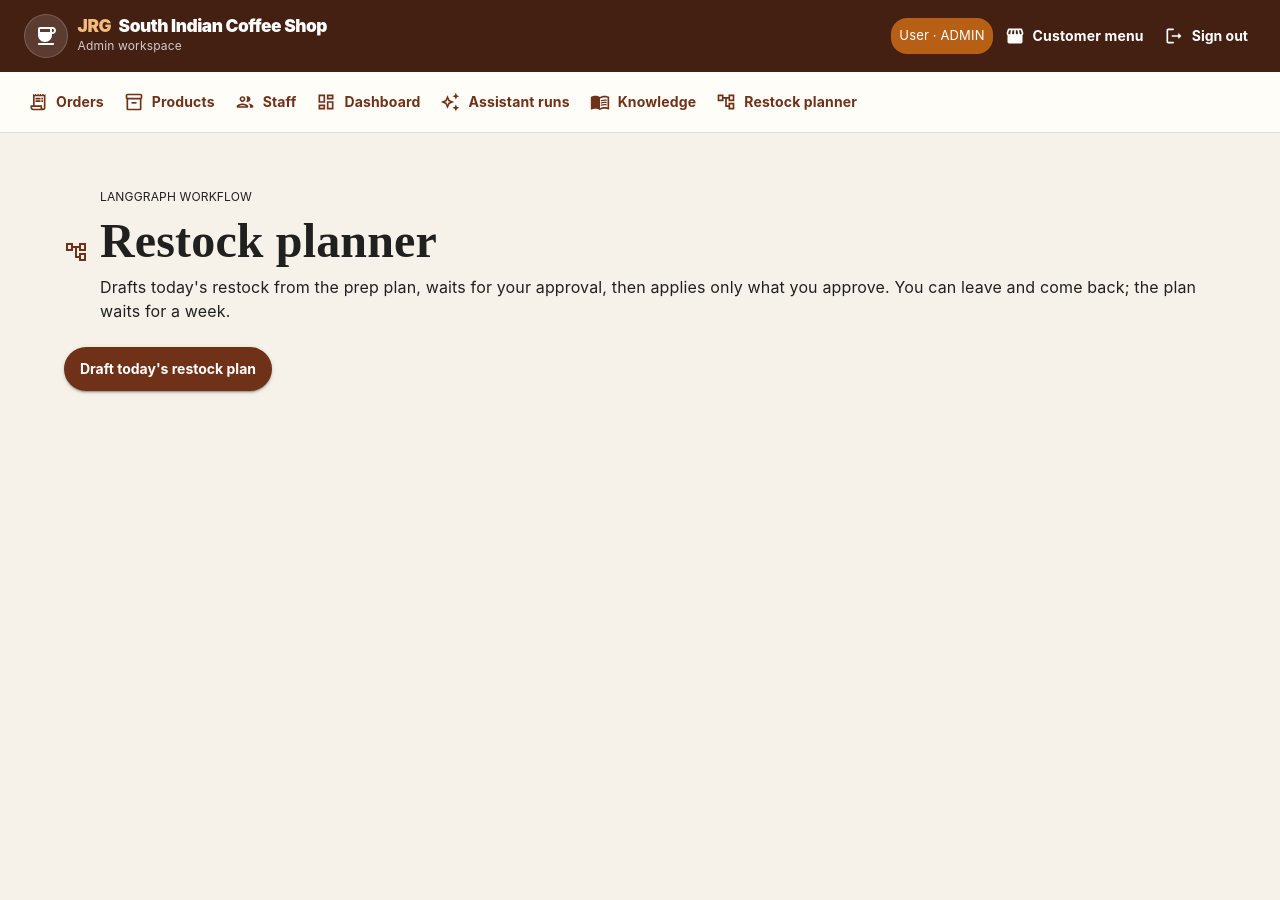
Scenario: admin restock planner › drafts a plan, lets the admin edit it, and applies the approved items
Click the button "Draft today's restock plan": (168, 369) [64,347,272,391]
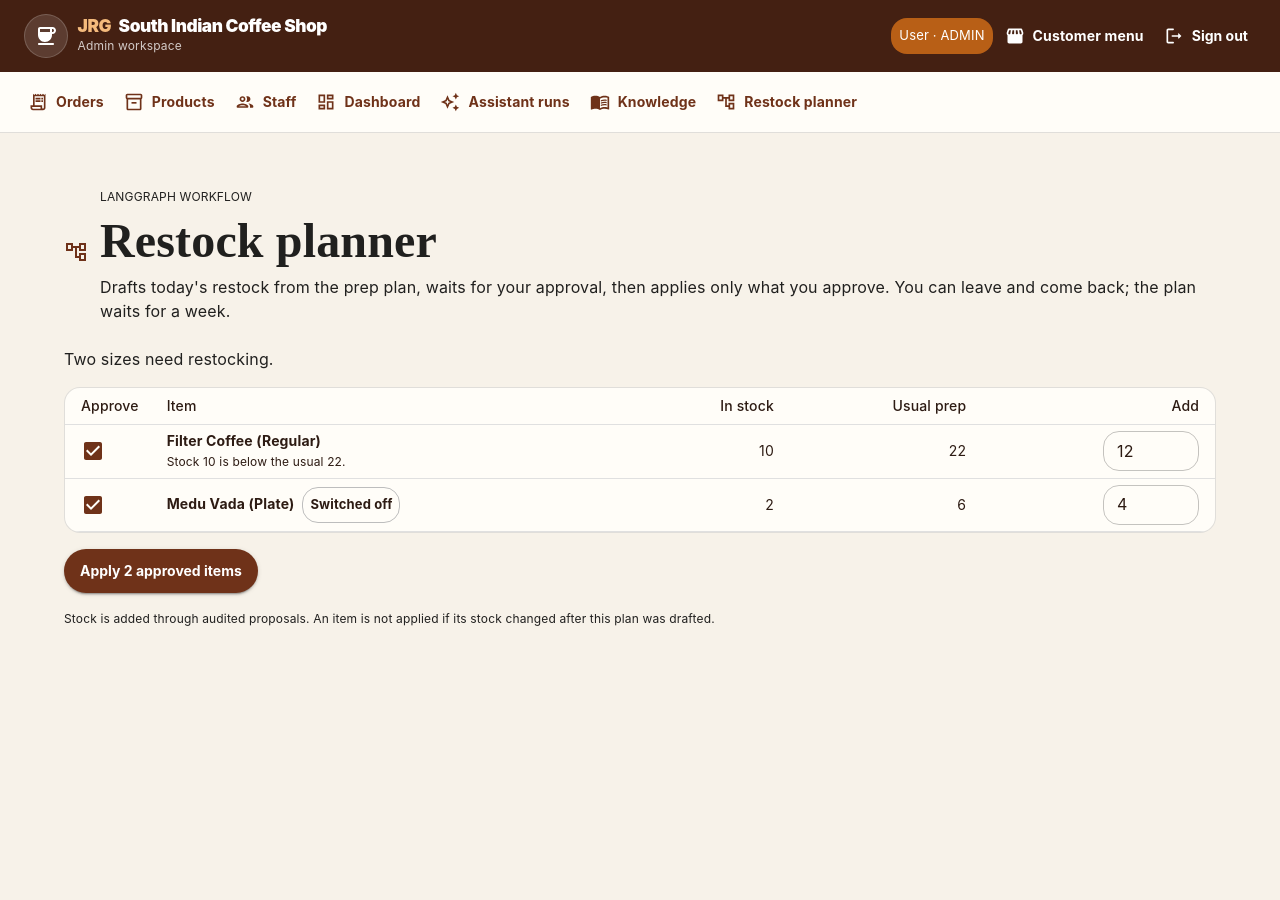
Now the text "Two sizes need restocking." is shown, box [64,349,274,369]
Now the text "Stock 10 is below the usual 22." is shown, box [167,454,346,469]
Now the text "Switched off" is shown, box [303,495,400,515]
Replace the text in the number field named "Units to add for Filter Coffee (Regular)" with "15": (1151, 451) [1103,431,1199,471]
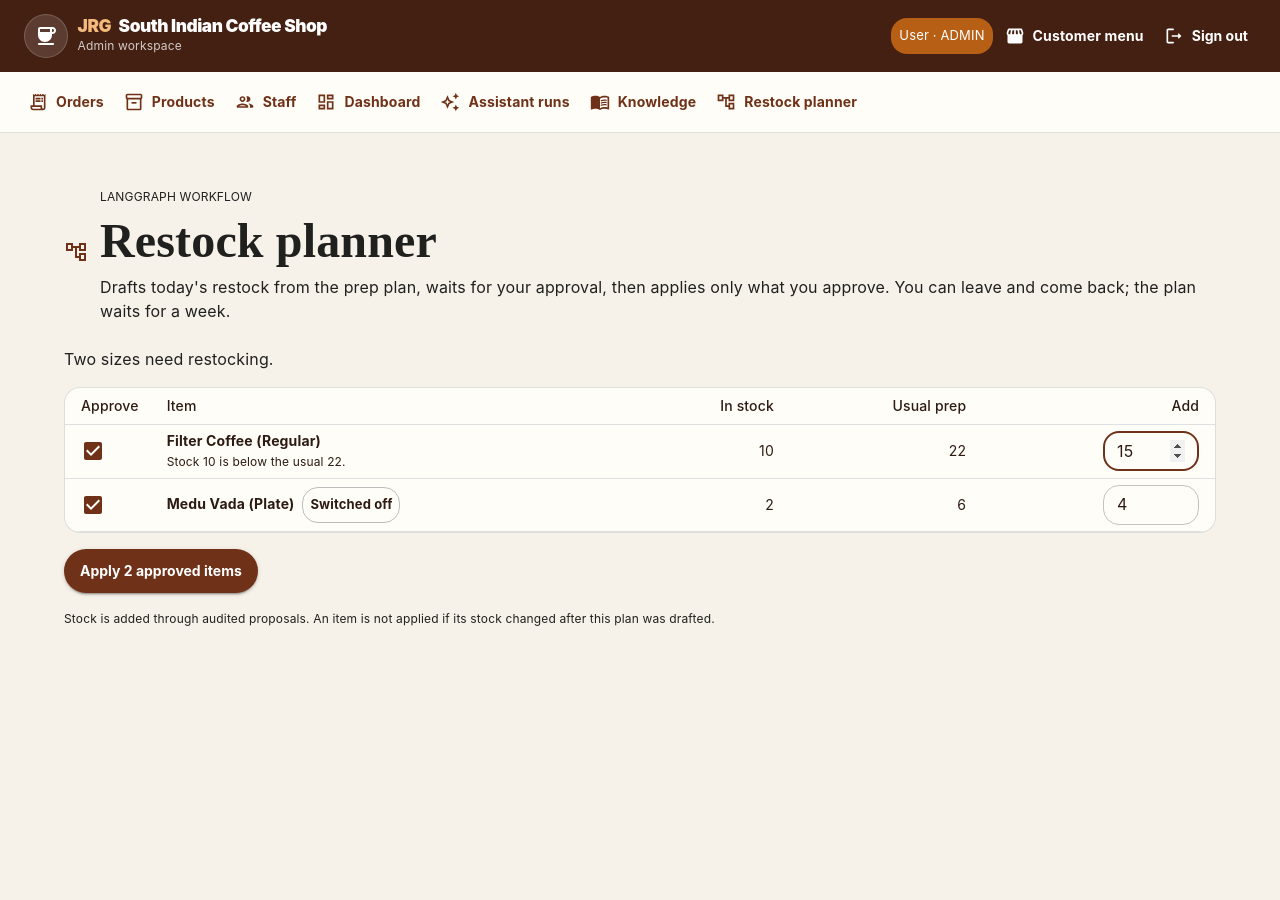
Click the checkbox named "Approve Medu Vada (Plate)": (93, 505) [81,493,105,517]
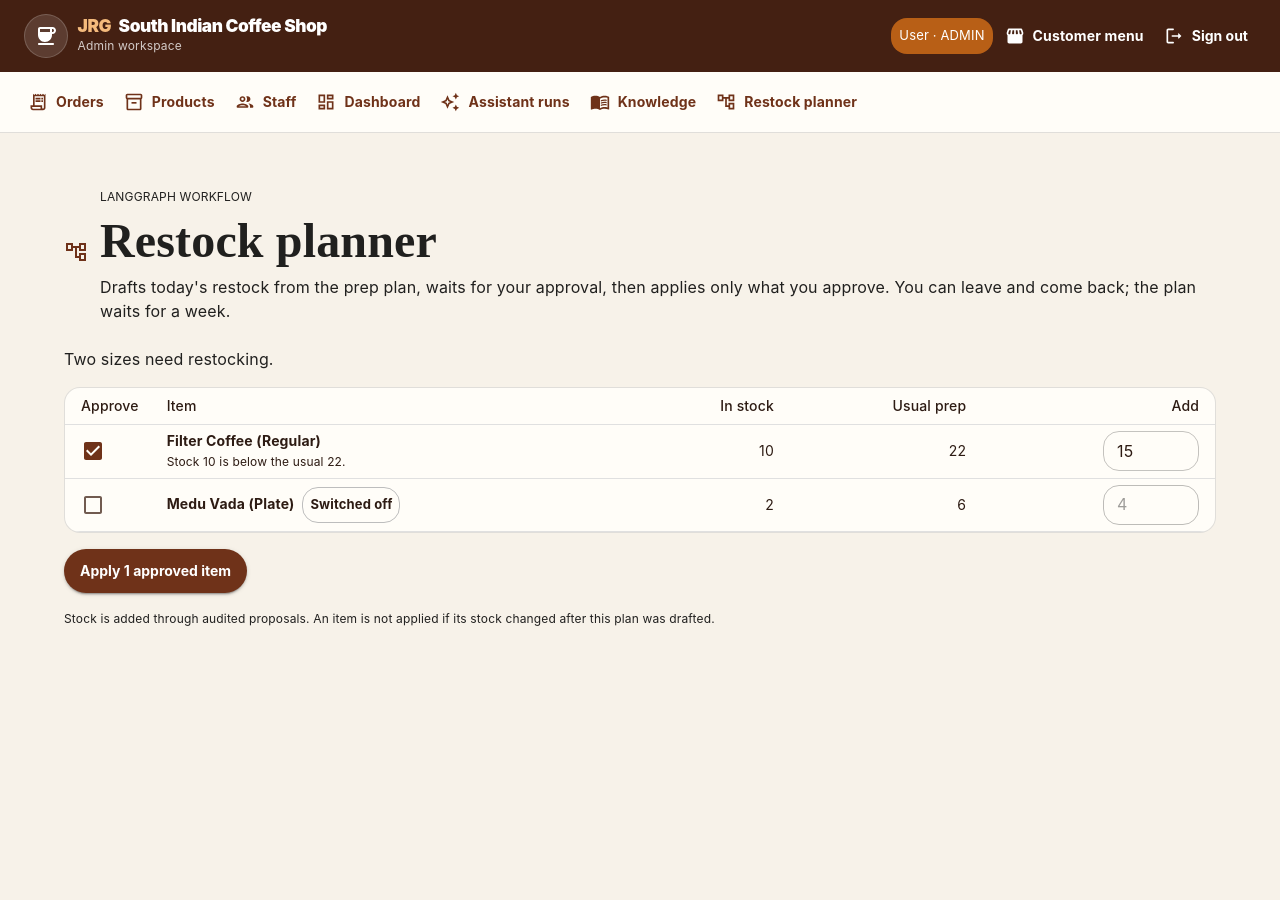
Click the button "Apply 1 approved item": (156, 571) [64,549,247,593]
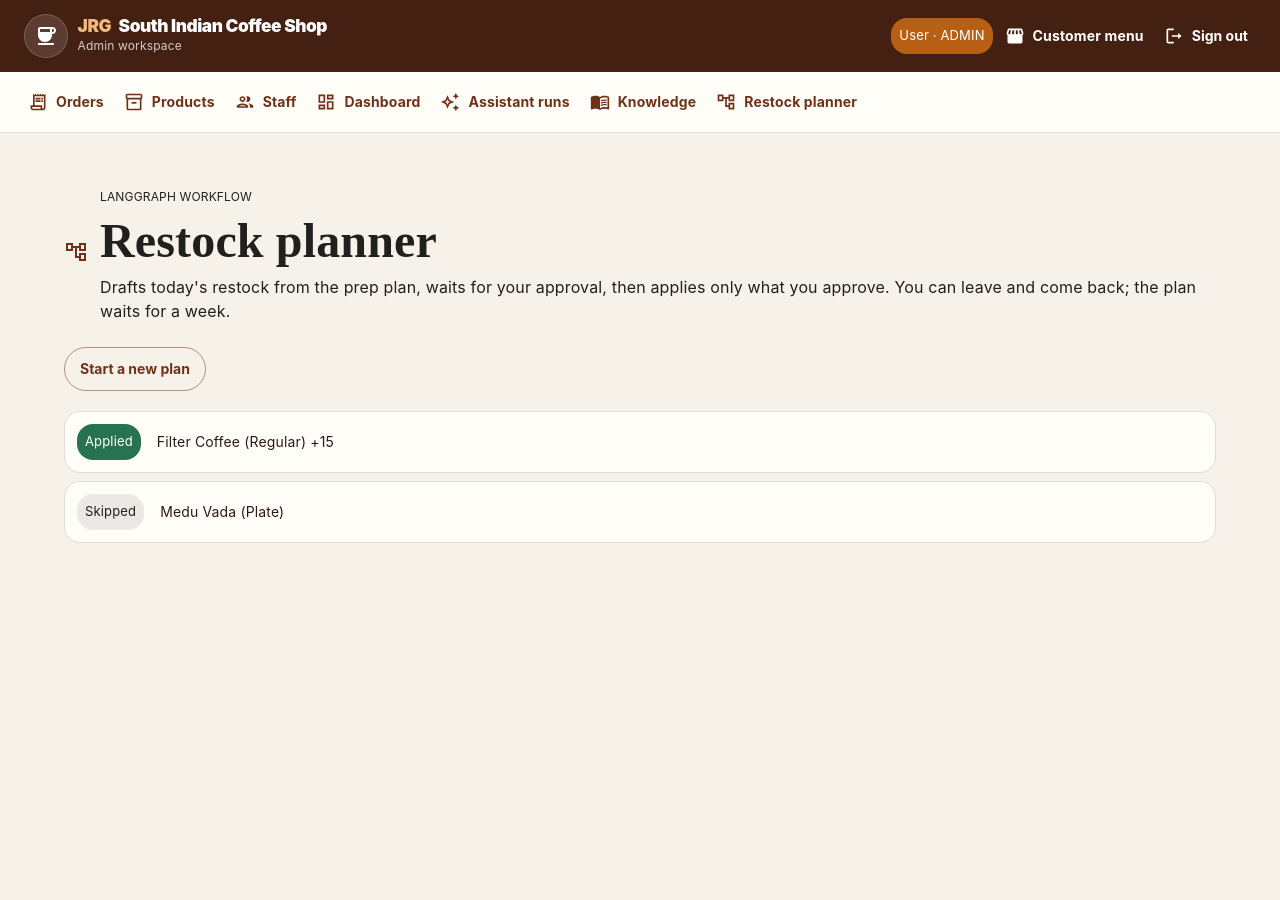
Now the text "Applied" is shown, box [85,433,133,449]
Now the text "Skipped" is shown, box [85,503,136,519]
